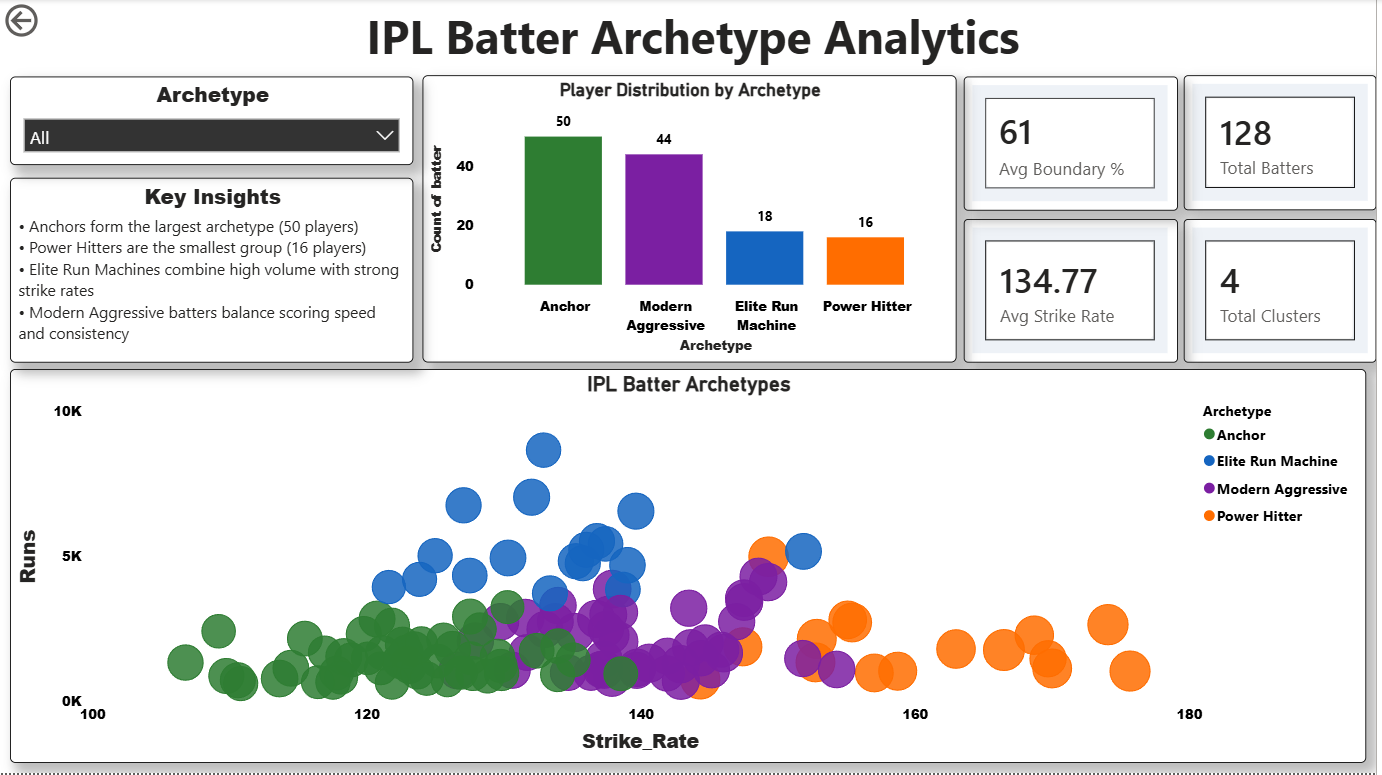

Layout of this report page (visuals, bound fields, positions):
{"tool":"powerbi","page":{"name":"Overview","canvas":[1280,720],"ordinal":0},"visuals":[{"type":"textbox","box":[9.6,0,1270.7,71.4],"z":0},{"type":"cardVisual","fields":{"Data":["ipl_batter_clusters.Total Batters"]},"box":[1101.2,70.9,179.1,125.6],"z":1000},{"type":"cardVisual","fields":{"Data":["ipl_batter_clusters.Total Clusters"]},"box":[1101.2,204.7,179.1,133.7],"z":2000},{"type":"cardVisual","fields":{"Data":["ipl_batter_clusters.Avg Strike Rate"]},"box":[896.5,204.7,198.8,133.7],"z":3000},{"type":"cardVisual","fields":{"Data":["ipl_batter_clusters.Avg Boundary %"]},"box":[896.5,72.1,198.8,124.4],"z":4000},{"type":"clusteredColumnChart","title":"Player Distribution by Archetype","fields":{"Y":["CountNonNull(ipl_batter_clusters.batter)"],"Category":["ipl_batter_clusters.Archetype"]},"box":[393,70.9,496.5,267.4],"z":5000},{"type":"scatterChart","title":"IPL Batter Archetypes","fields":{"Series":["ipl_batter_clusters.Archetype"],"X":["Sum(ipl_batter_clusters.StrikeRate)"],"Y":["Sum(ipl_batter_clusters.Runs)"],"Size":["Sum(ipl_batter_clusters.BoundaryPct)"],"Category":["ipl_batter_clusters.batter"]},"box":[9.3,344.2,1261.6,366.3],"z":6000},{"type":"actionButton","box":[0,0,100,40],"z":7000},{"type":"textbox","title":"Key Insights","box":[9.3,166.3,375.6,172.1],"z":8000},{"type":"slicer","title":"Archetype","fields":{"Values":["ipl_batter_clusters.Archetype"]},"box":[9.3,72.1,375.6,82.6],"z":9000}]}

Visuals, with their boxes in screenshot pixels (x1, y1, x2, y2), scaled from the page's 1280x720 canvas onto the 1382x775 screenshot:
textbox: 10 0 1381 77
cardVisual - ipl_batter_clusters.Total Batters: 1189 76 1381 212
cardVisual - ipl_batter_clusters.Total Clusters: 1189 220 1381 364
cardVisual - ipl_batter_clusters.Avg Strike Rate: 968 220 1183 364
cardVisual - ipl_batter_clusters.Avg Boundary %: 968 78 1183 212
"Player Distribution by Archetype" clusteredColumnChart: 424 76 960 364
"IPL Batter Archetypes" scatterChart: 10 370 1372 765
actionButton: 0 0 108 43
"Key Insights" textbox: 10 179 416 364
"Archetype" slicer: 10 78 416 167
